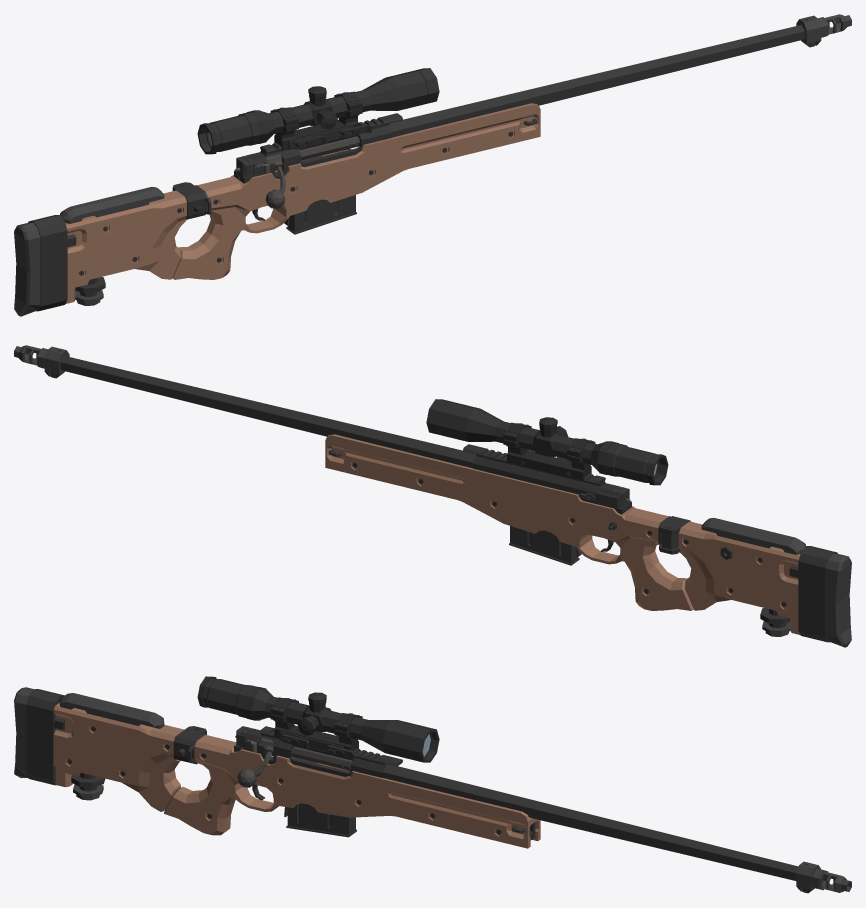
File: gun_sniper.glb
The picture shows the model from 3 angles, top to bottom: view 1: azimuth 30°, elevation 25°; view 2: azimuth 150°, elevation 25°; view 3: azimuth 330°, elevation 25°; orthographic projection.
Bounding box in the file's own units: 496 × 91.85 × 30.34.
